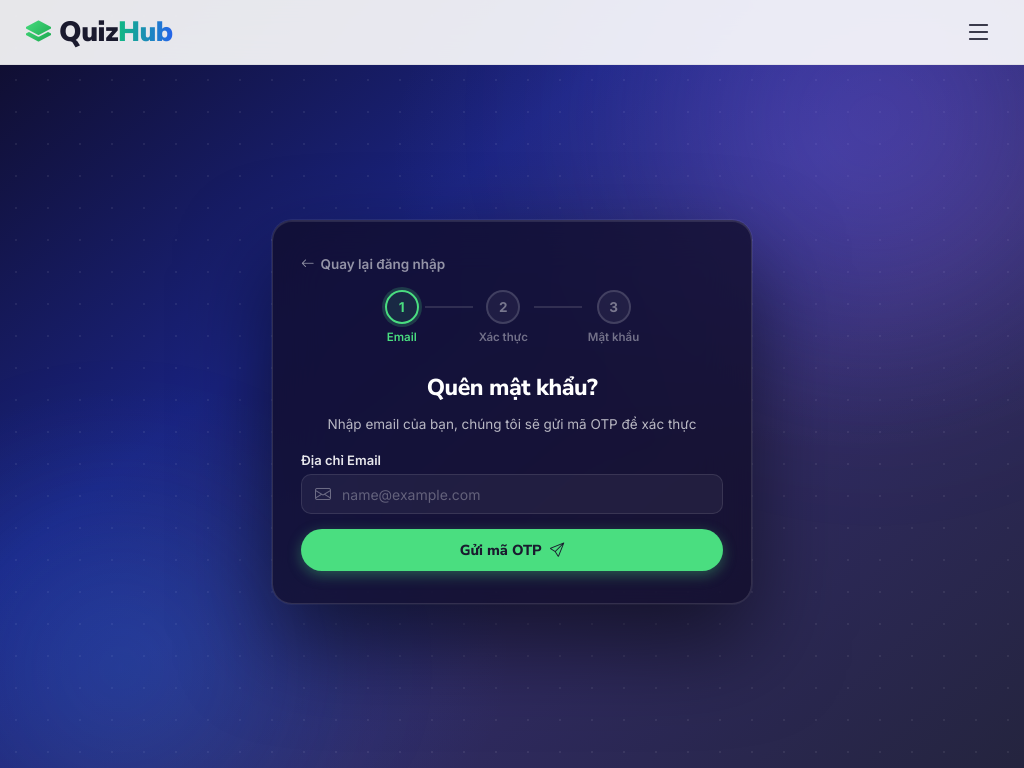
Test: ForgotPasswordPage Component - V1 4-Step Parity and Auth Behavior › 4. displays backend error message when forgotPassword API fails
The image size is (1024, 768).
Step 1. Type "notfound@example.com" into the field labelled "Địa chỉ Email" → [512, 494], box x1=301 y1=474 x2=723 y2=514
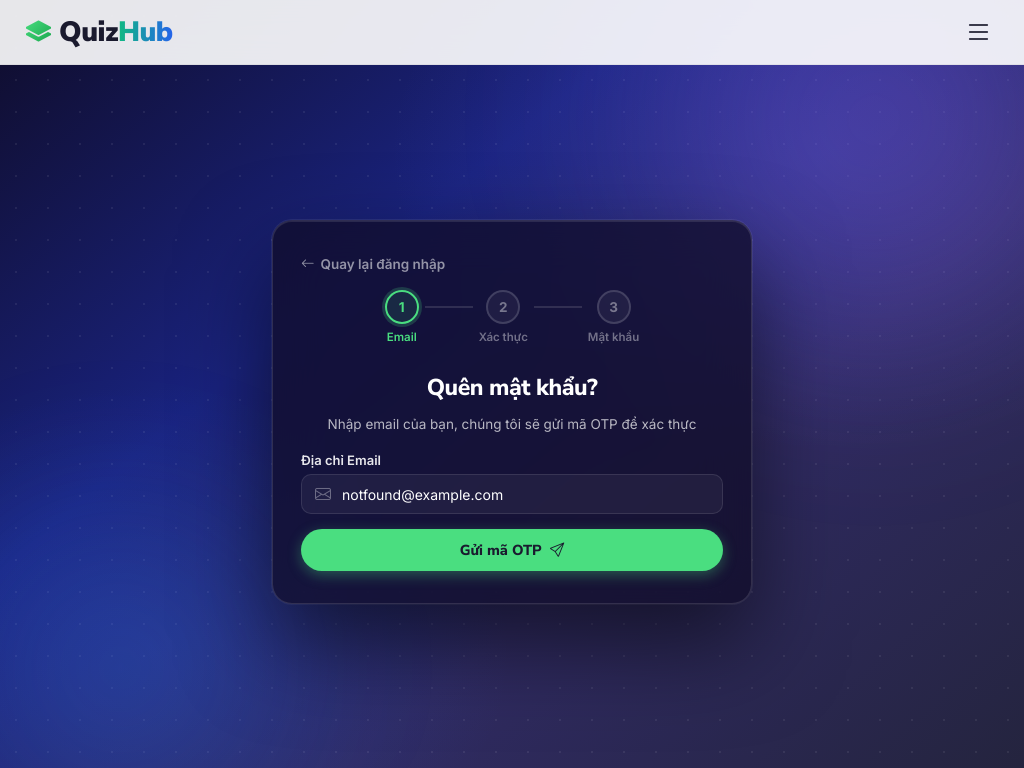
Step 2. Click the button "Gửi mã OTP" → [512, 550], box x1=301 y1=529 x2=723 y2=571
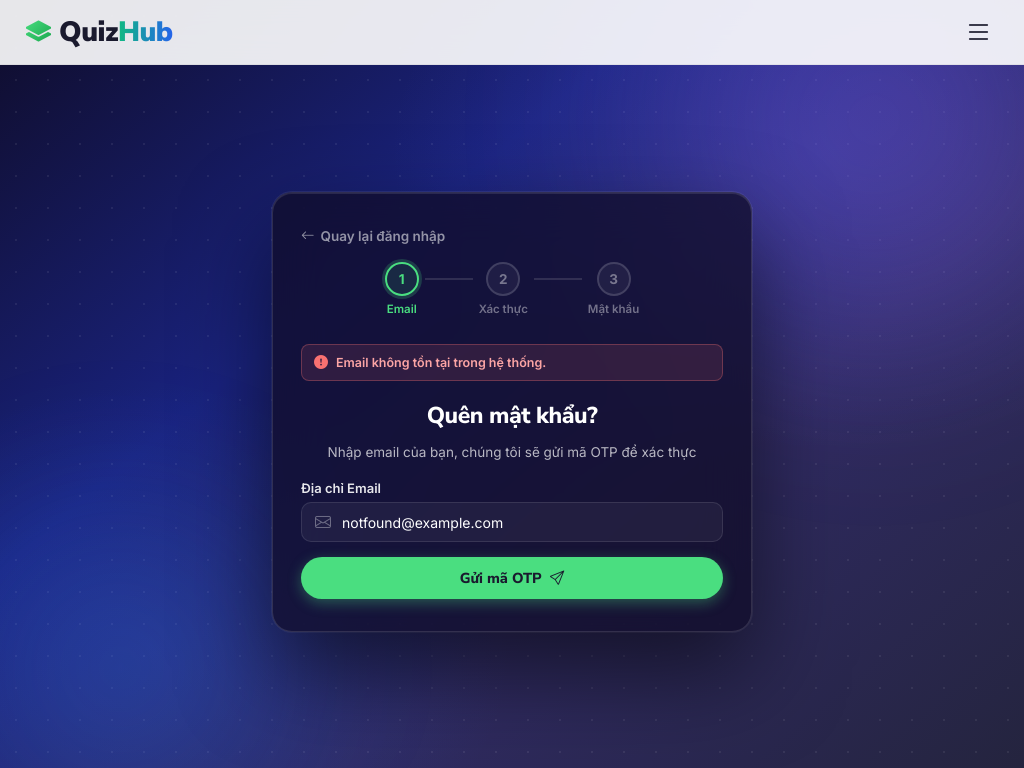
expect the text "Email không tồn tại trong hệ thống." is shown: met, box x1=336 y1=355 x2=546 y2=370
